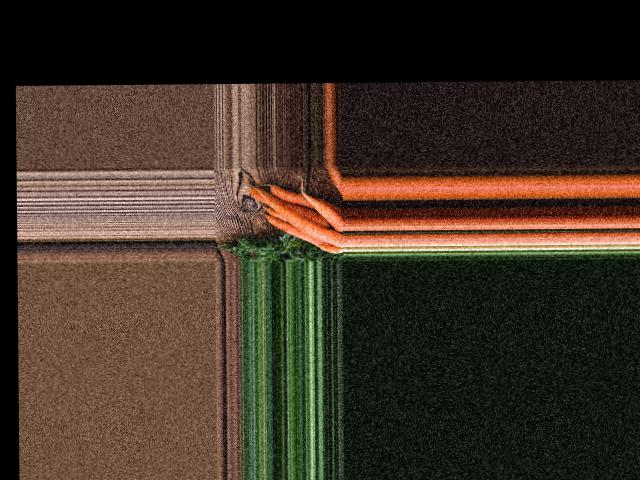carrot: (303, 192, 341, 230)
